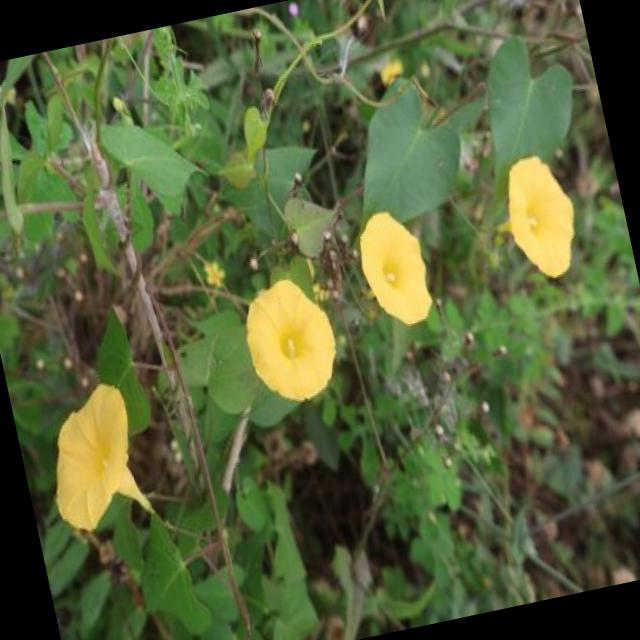ipomoea: (29, 372, 160, 544), (232, 266, 351, 416), (492, 144, 590, 290), (347, 198, 441, 339)
